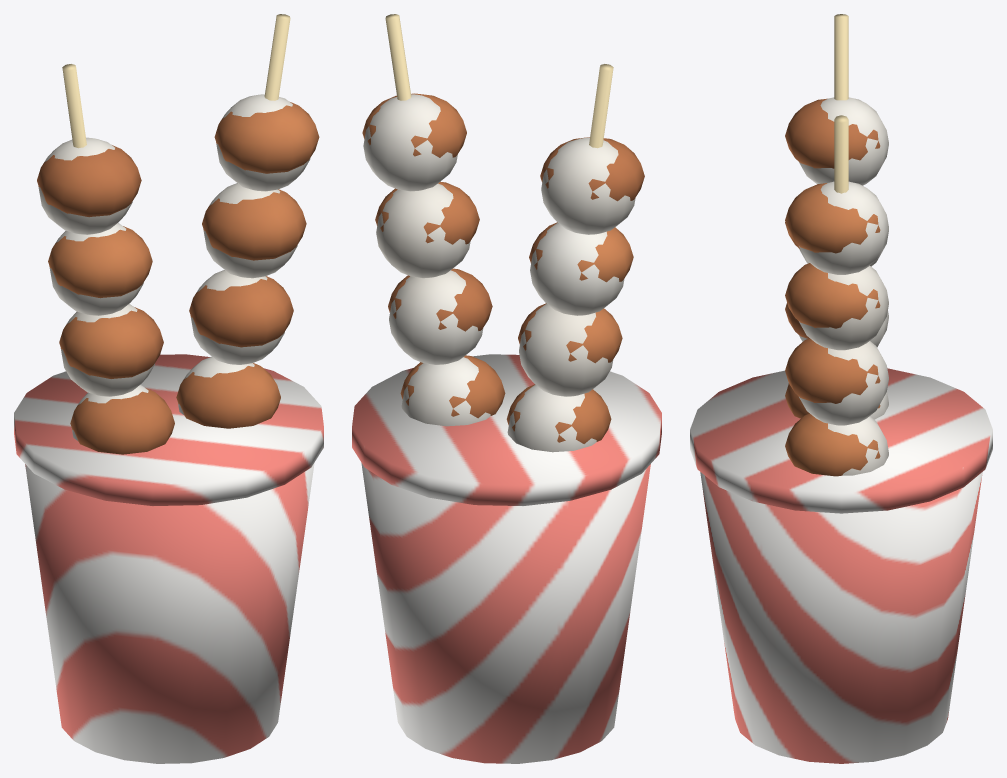
The model's file is cilok.fbx.
3 renders of one model, left to right at view 1: azimuth 30°, elevation 25°; view 2: azimuth 150°, elevation 25°; view 3: azimuth 270°, elevation 25°, orthographic. The views are drawn at different scales.
Parts seen in each view (by area): view 1: cilok; view 2: cilok; view 3: cilok.
Part boxes in pixels (x1,y1,x2,y2): cilok: (14,14,323,763); cilok: (352,14,661,763); cilok: (690,14,992,763).
Bounding box in the file's own units: 11.02 × 25.84 × 10.8.
1 material, 1 textured.
